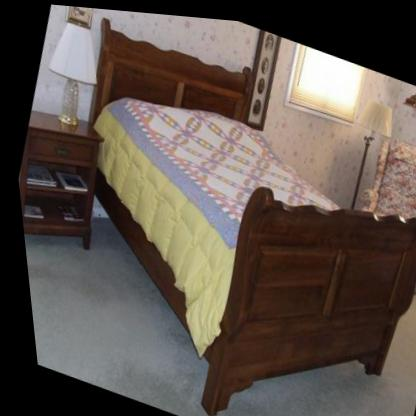Bed: (89, 18, 416, 391)
Chair: (331, 122, 416, 287)
Nightstand: (15, 111, 99, 250)
